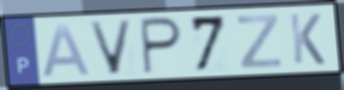7: (189, 14, 228, 74)
A: (39, 22, 93, 79)
K: (287, 12, 328, 67)
P: (138, 15, 185, 77)
V: (86, 18, 136, 77)
Z: (235, 12, 283, 70)
